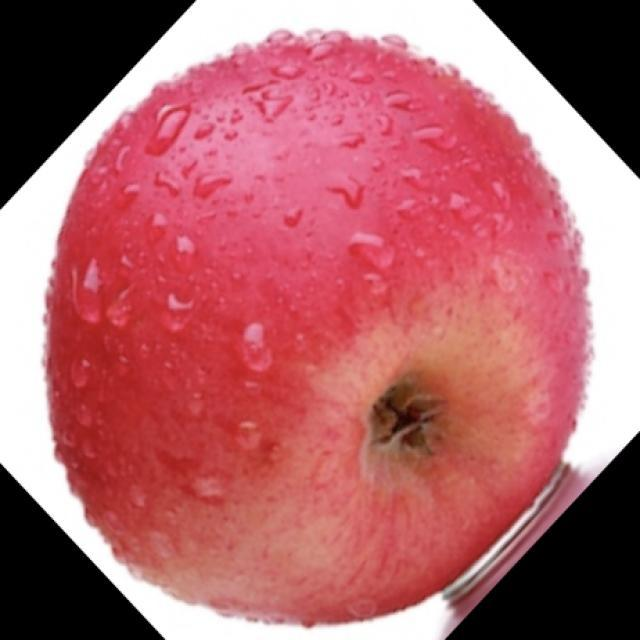Fresh Apple: (41, 24, 596, 628)
